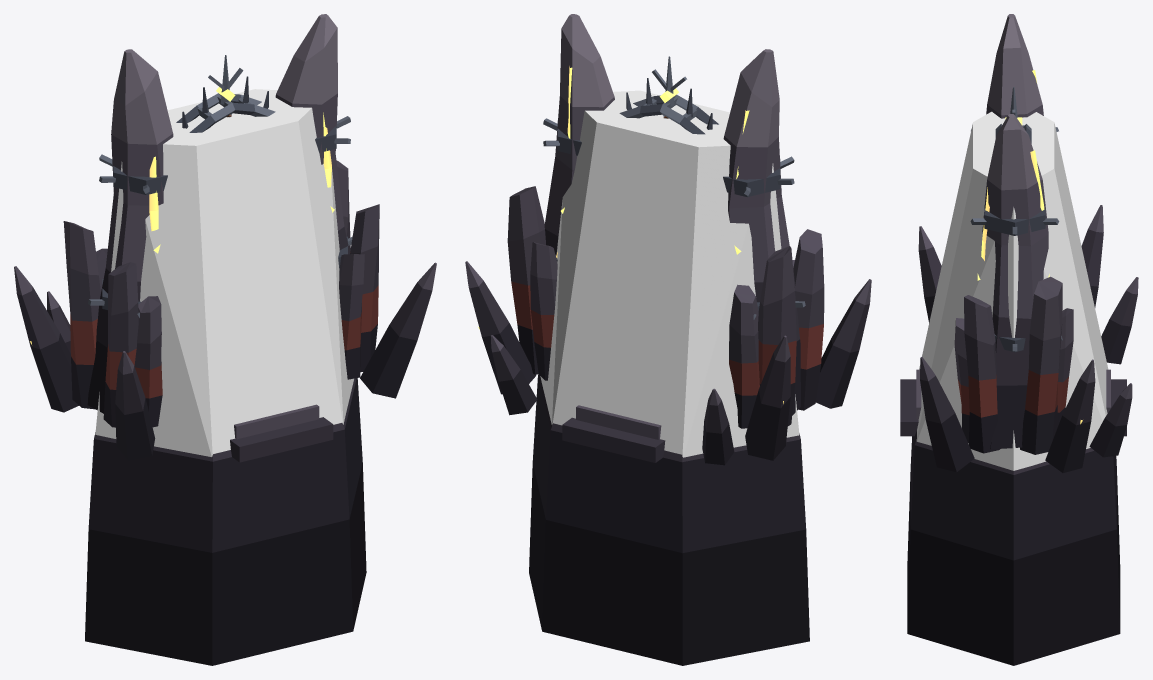
Rendered from volcanic_obsidian_lava_gate.glb.
3 renders of one model, left to right at view 1: azimuth 30°, elevation 25°; view 2: azimuth 150°, elevation 25°; view 3: azimuth 270°, elevation 25°, orthographic. The views are drawn at different scales.
Visible parts, largest first — view 1: volcanic_obsidian_lava_gate, col_lavagate_base; view 2: volcanic_obsidian_lava_gate, col_lavagate_base; view 3: volcanic_obsidian_lava_gate, col_lavagate_base.
Boxes of the visible parts, x1,y1,x2,y2 form: volcanic_obsidian_lava_gate: (14,14,436,665); col_lavagate_base: (95,89,353,456); volcanic_obsidian_lava_gate: (465,14,871,665); col_lavagate_base: (540,90,799,457); volcanic_obsidian_lava_gate: (900,14,1138,665); col_lavagate_base: (916,111,1108,470).
Bounding box in the file's own units: 6.15 × 10.44 × 4.16.
